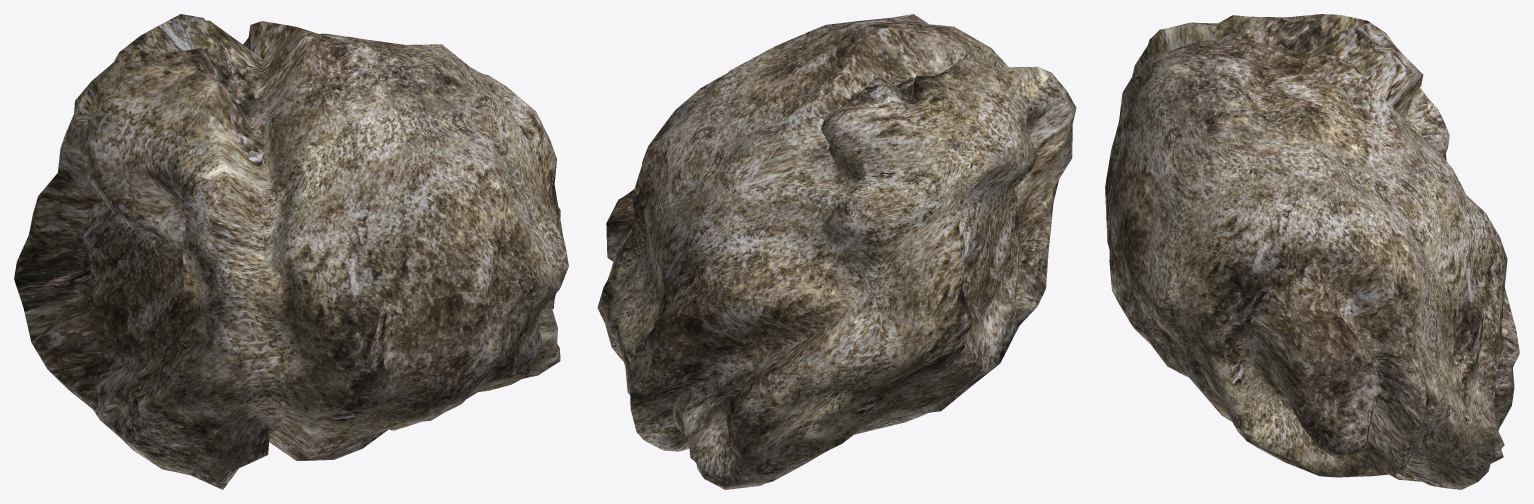
File: Asteroid_10_L0.FBX
3 views of the same model, side by side, from view 1: azimuth 30°, elevation 25°; view 2: azimuth 150°, elevation 25°; view 3: azimuth 270°, elevation 25° (orthographic). The views are drawn at different scales.
Visible parts, largest first — view 1: Asteroid; view 2: Asteroid; view 3: Asteroid.
Part boxes in pixels (bbox=[...]): Asteroid: bbox=[14, 14, 568, 489]; Asteroid: bbox=[597, 14, 1076, 489]; Asteroid: bbox=[1105, 14, 1519, 489].
Bounding box in the file's own units: 2.37 × 2.35 × 2.16.
